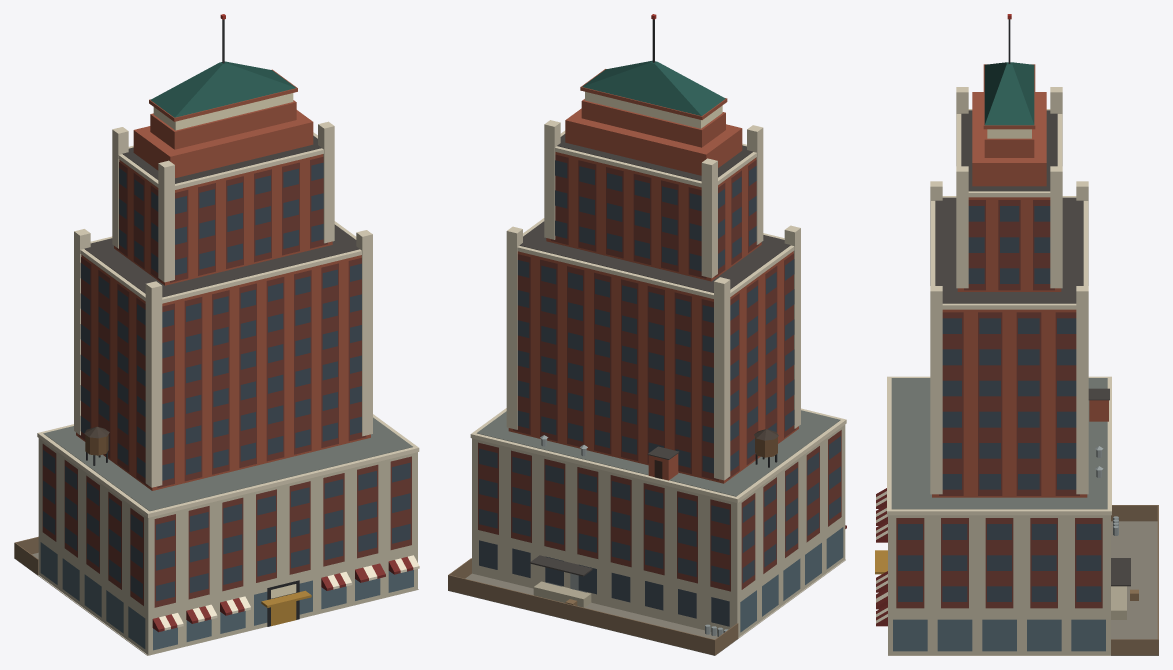
File: tower_wb.glb
The picture shows the model from 3 angles, left to right: view 1: azimuth 30°, elevation 25°; view 2: azimuth 150°, elevation 25°; view 3: azimuth 270°, elevation 25°; orthographic projection. The views are drawn at different scales.
Parts seen in each view (by area): view 1: tower_wb; view 2: tower_wb; view 3: tower_wb.
Boxes of the visible parts, left/top/right/bottom form: tower_wb: left=14, top=14, right=419, bottom=655; tower_wb: left=448, top=14, right=846, bottom=655; tower_wb: left=875, top=14, right=1158, bottom=655.
Bounding box in the file's own units: 30 × 59.62 × 26.72.
